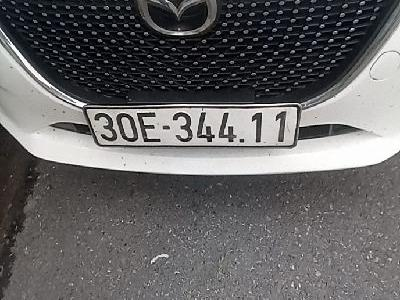number: (82, 105, 299, 150)
